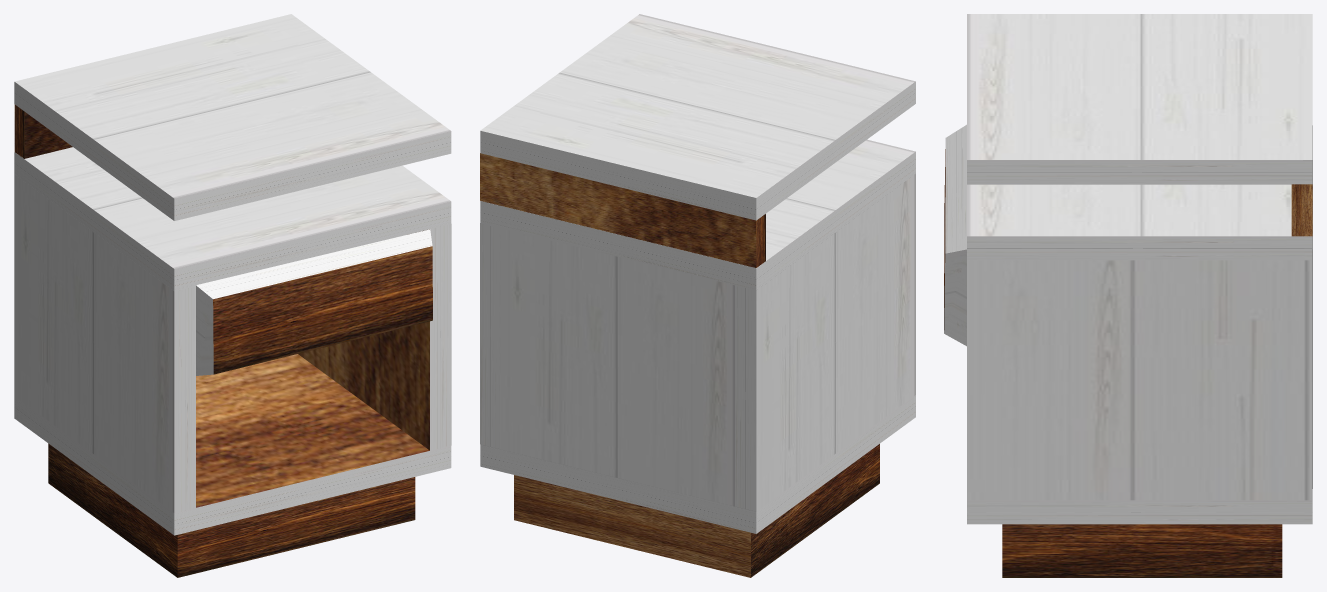
The model's file is cabecera.obj.
The picture shows the model from 3 angles, left to right: view 1: azimuth 30°, elevation 25°; view 2: azimuth 150°, elevation 25°; view 3: azimuth 270°, elevation 25°; orthographic projection. The views are drawn at different scales.
Visible parts, largest first — view 1: pasted__pCube2group4, pasted__pCube2group, pCube2, pasted__pCube2group3, pCube5, pCube1, pasted__pasted__pCube2pasted__groupgroup1, pasted__pasted__pasted__pasted__pCube2pasted__pasted__pasted__gr; view 2: pasted__pCube2group4, pasted__pasted__pasted__pCube2pasted__pasted__grouppasted__group, pasted__pCube2group, pCube1, pasted__pCube2group3, pasted__pasted__pasted__pasted__pCube2pasted__pasted__pasted__gr, pCube2, pasted__pasted__pCube2pasted__groupgroup1; view 3: pasted__pasted__pCube2pasted__groupgroup1, pasted__pCube2group4, pasted__pCube2group3, pCube1, pCube2, pCube5, pasted__pasted__pasted__pasted__pCube2pasted__pasted__pasted__gr.
Part boxes in pixels (box(x1,y1,x2,y2)): pasted__pCube2group4: box(14, 14, 451, 220); pasted__pCube2group: box(14, 174, 195, 513); pCube2: box(14, 354, 451, 535); pasted__pCube2group3: box(14, 147, 451, 291); pCube5: box(196, 229, 432, 375); pCube1: box(48, 443, 415, 577); pasted__pasted__pCube2pasted__groupgroup1: box(298, 224, 451, 450); pasted__pasted__pasted__pasted__pCube2pasted__pasted__pasted__gr: box(14, 104, 72, 158); pasted__pCube2group4: box(480, 14, 915, 220); pasted__pasted__pasted__pCube2pasted__pasted__grouppasted__group: box(501, 228, 734, 506); pasted__pCube2group: box(735, 174, 915, 511); pCube1: box(514, 444, 879, 577); pasted__pCube2group3: box(480, 139, 915, 290); pasted__pasted__pasted__pasted__pCube2pasted__pasted__pasted__gr: box(480, 153, 765, 267); pCube2: box(480, 395, 915, 533); pasted__pasted__pCube2pasted__groupgroup1: box(480, 223, 500, 449); pasted__pasted__pCube2pasted__groupgroup1: box(967, 260, 1312, 500); pasted__pCube2group4: box(967, 14, 1312, 184); pasted__pCube2group3: box(967, 184, 1312, 260); pCube1: box(1002, 524, 1282, 577); pCube2: box(967, 500, 1312, 524); pCube5: box(944, 124, 966, 346); pasted__pasted__pasted__pasted__pCube2pasted__pasted__pasted__gr: box(1291, 184, 1312, 236).
Bounding box in the file's own units: 1 × 1.37 × 1.07.
4 materials, 3 textured.
